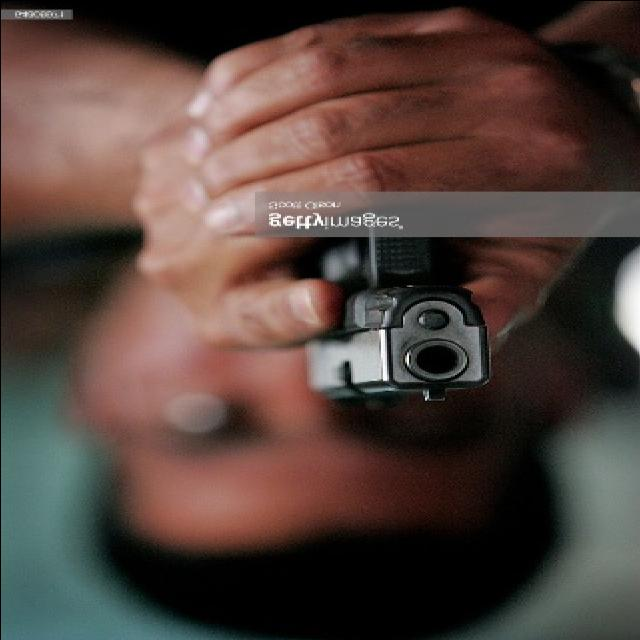handgun: (303, 214, 497, 412)
